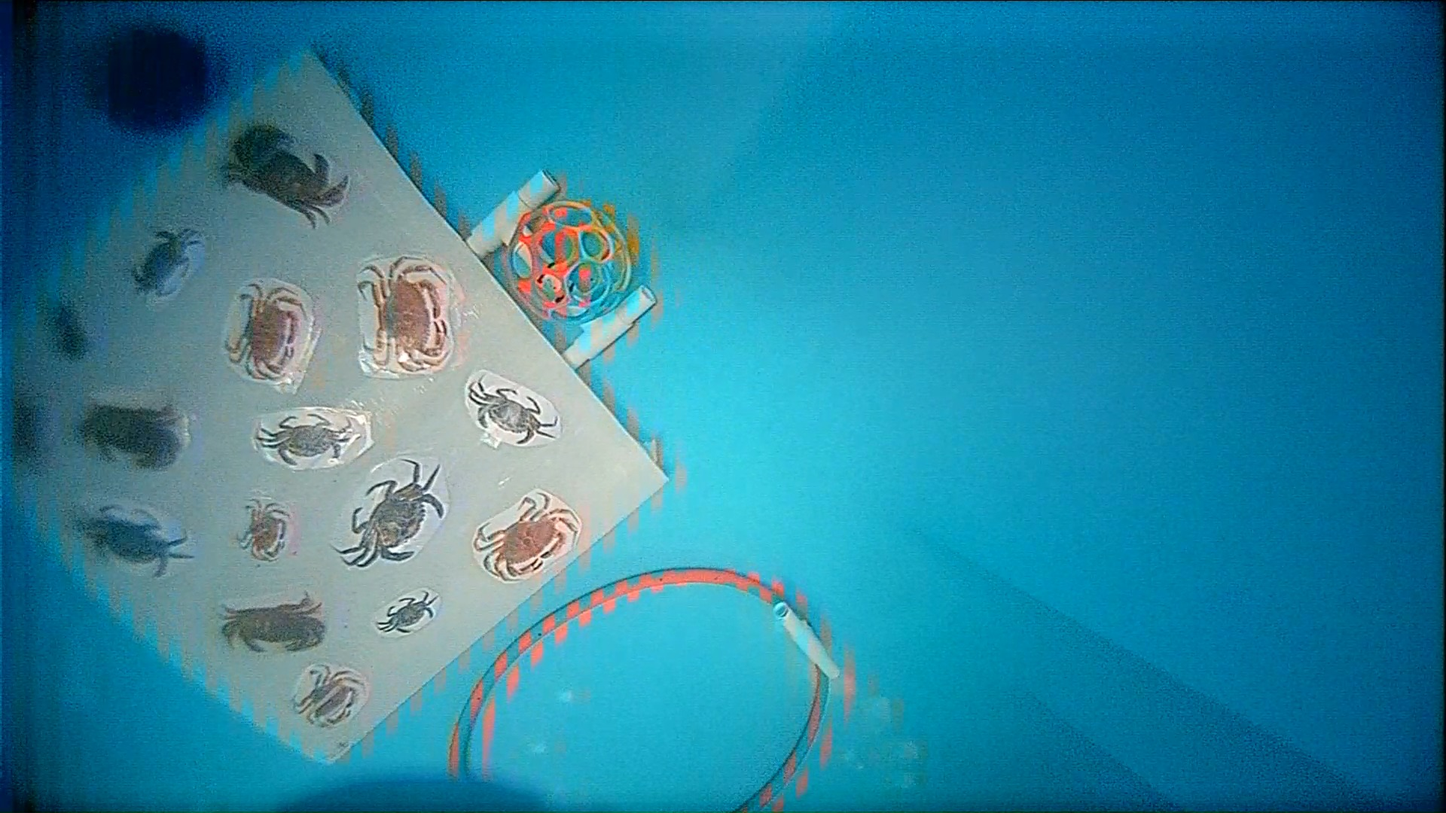GreenCrab: (338, 460, 444, 567), (81, 505, 194, 577), (468, 383, 558, 443), (255, 416, 353, 467), (378, 591, 438, 632)
